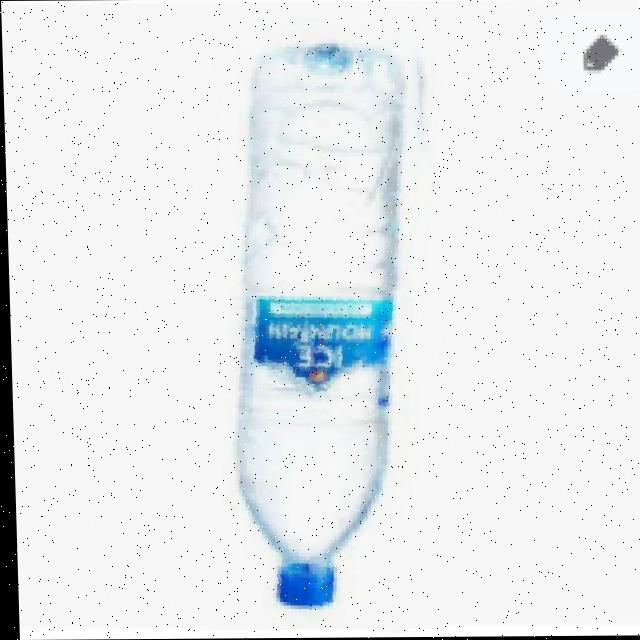plasticbottle: (185, 13, 449, 630)
plasticbottlecap: (271, 533, 381, 610)
